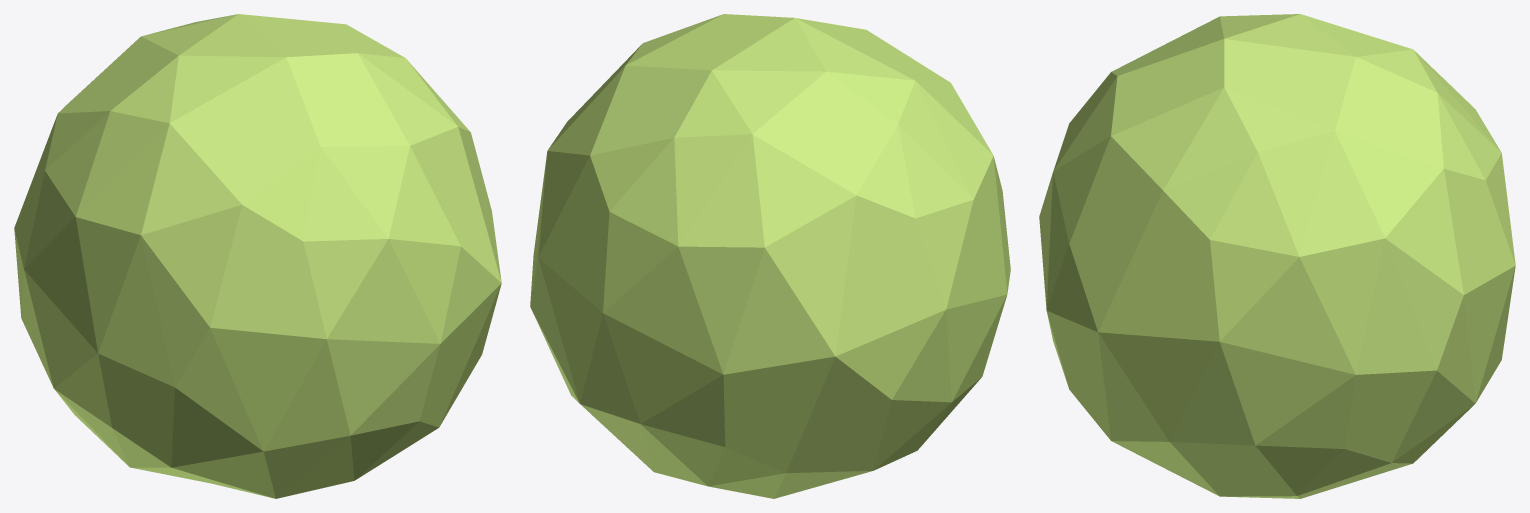
The model's file is Bush_f_m_01.fbx.
3 views of the same model, side by side, from view 1: azimuth 30°, elevation 25°; view 2: azimuth 150°, elevation 25°; view 3: azimuth 270°, elevation 25° (orthographic).
Parts seen in each view (by area): view 1: Bush_f_m_01; view 2: Bush_f_m_01; view 3: Bush_f_m_01.
Boxes of the visible parts, left/top/right/bottom form: Bush_f_m_01: left=14, top=14, right=501, bottom=498; Bush_f_m_01: left=530, top=14, right=1010, bottom=498; Bush_f_m_01: left=1039, top=14, right=1515, bottom=498.
Size of the model in its own units: 136 by 138 by 136.
